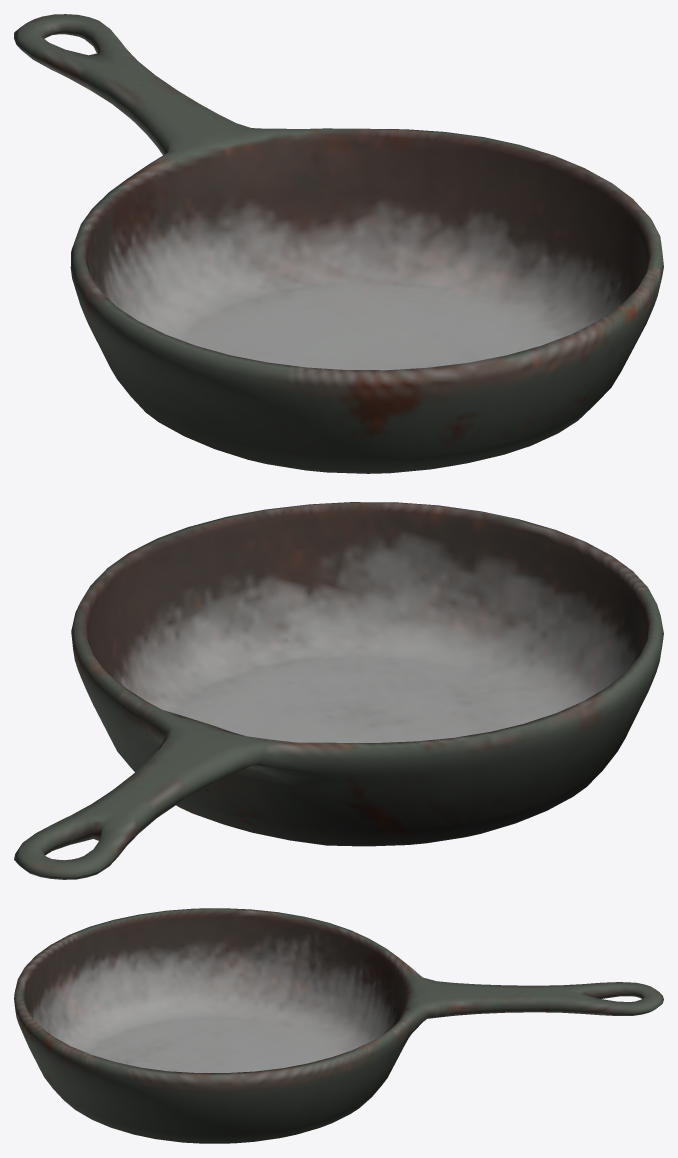
File: Pan.FBX
The picture shows the model from 3 angles, top to bottom: view 1: azimuth 30°, elevation 25°; view 2: azimuth 150°, elevation 25°; view 3: azimuth 270°, elevation 25°; orthographic projection. The views are drawn at different scales.
Parts seen in each view (by area): view 1: Pan; view 2: Pan; view 3: Pan.
Part boxes in pixels (left/top/right/bottom): Pan: left=14, top=14, right=663, bottom=473; Pan: left=14, top=502, right=663, bottom=879; Pan: left=14, top=908, right=663, bottom=1143.
Size of the model in its own units: 21.72 by 34.97 by 5.31.
